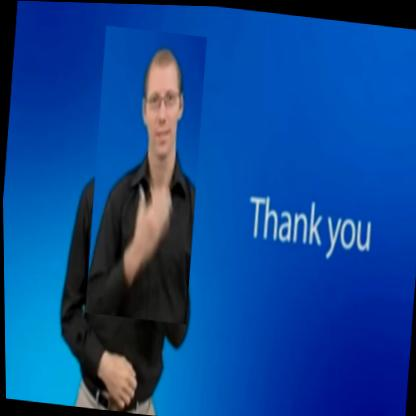ThankYou: (81, 24, 210, 324)
